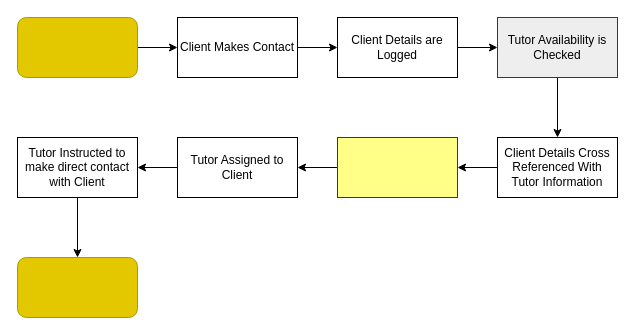
Some shapes in this 635 by 335 pixel diagram are drawn without their labels. Each missing label, with the centre of its shape:
"End" belongs at point (77, 287).
"If no Tutors are found, the client must be notified" belongs at point (397, 167).
"Start" belongs at point (77, 47).
